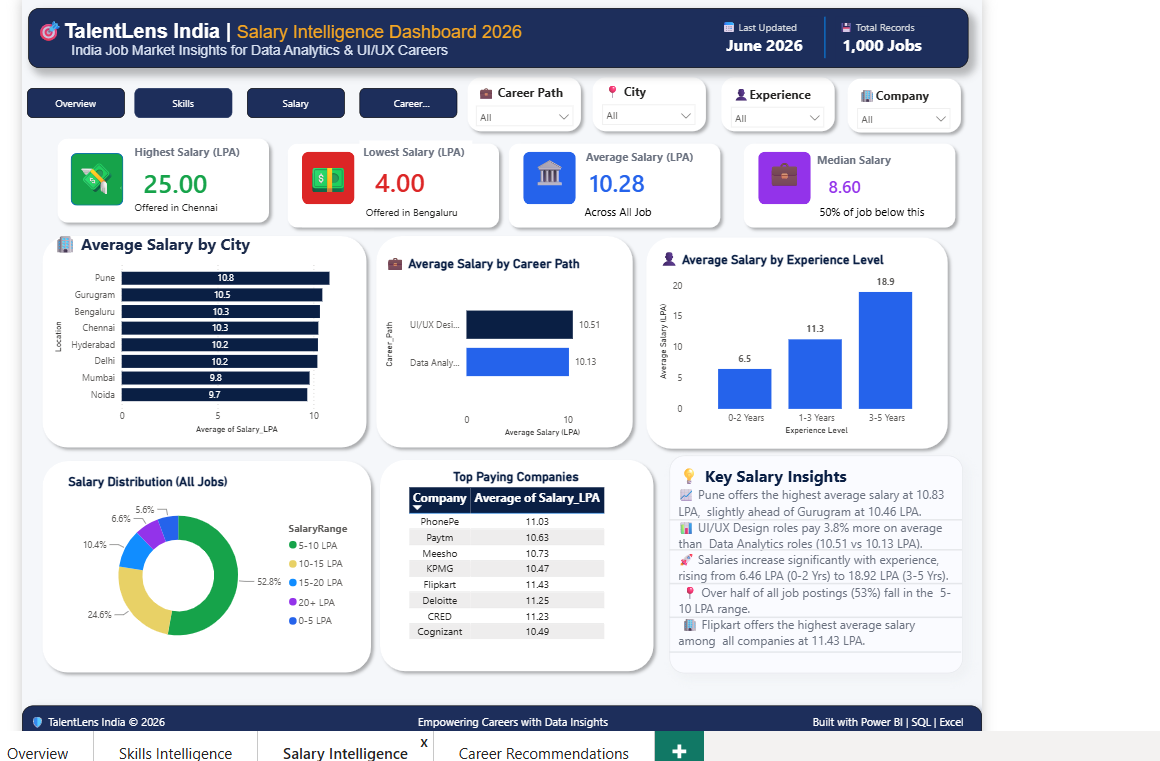

What the dashboard file says about the page in this screenshot:
{"tool":"powerbi","page":{"name":"Salary Intelligence ","canvas":[1280,1000],"ordinal":2},"visuals":[{"type":"textbox","box":[7.5,12.5,1253.8,80],"z":0,"group":"g7"},{"type":"actionButton","box":[7,120,130,40],"z":0},{"type":"shape","box":[38.6,178.6,300,130],"z":0,"group":"g11"},{"type":"shape","box":[952.5,185,300,130],"z":0,"group":"g12"},{"type":"shape","box":[640,185.6,300,130],"z":0,"group":"g13"},{"type":"shape","box":[345.7,185.7,300,130],"z":0,"group":"g14"},{"type":"shape","box":[17.5,608.8,456,300],"z":0,"group":"g10"},{"type":"actionButton","box":[150,120.6,130,40],"z":1000},{"type":"shape","box":[980.1,204.9,70,70],"z":1000,"group":"g12"},{"type":"shape","box":[667.6,205.5,70,70],"z":1000,"group":"g13"},{"type":"shape","box":[373.3,205.6,70,70],"z":1000,"group":"g14"},{"type":"shape","box":[65.4,207.3,70,70],"z":1000,"group":"g11"},{"type":"actionButton","box":[300,120.6,130,40],"z":2000},{"type":"group","id":"g1","title":"Group 2","box":[585,96,169,90],"z":3000},{"type":"cardVisual","fields":{"Data":["ToolPopularity.SalaryLowest"]},"box":[454.7,220.6,148.8,47.5],"z":3000,"group":"g14"},{"type":"shape","box":[1013.1,24.7,114.3,55.6],"z":4000,"group":"g7"},{"type":"group","id":"g2","title":"Group 3","box":[751.1,95.9,169.2,90],"z":4000},{"type":"textbox","box":[145.3,189.5,169,31],"z":4000,"group":"g11"},{"type":"textbox","box":[450.9,190.6,150,37.5],"z":4000,"group":"g14"},{"type":"textbox","box":[746.9,197.8,173.3,35.6],"z":4000,"group":"g13"},{"type":"textbox","box":[1054.6,199.2,130,30.9],"z":4000,"group":"g12"},{"type":"textbox","box":[928.2,24.7,132.8,57.8],"z":5000,"group":"g7"},{"type":"group","id":"g3","title":"Group 4","box":[924,96,169,90],"z":5000},{"type":"textbox","box":[1084.9,24.7,125.2,57.8],"z":6000,"group":"g7"},{"type":"group","id":"g4","title":"Group 6","box":[38.6,178.6,300,130],"z":6000},{"type":"group","id":"g5","title":"Group 6","box":[345.7,185.7,300,130],"z":7000},{"type":"group","id":"g6","title":"Group 6","box":[640,185.6,300,130],"z":8000},{"type":"textbox","box":[0,942.5,1280,47.5],"z":9000},{"type":"group","id":"g7","title":"Group 10","box":[7.5,12.5,1253.8,80],"z":10000},{"type":"shape","box":[17.7,308.3,450,300],"z":11000},{"type":"shape","box":[463.8,308.8,360,300],"z":12000},{"type":"shape","box":[585,96,169.2,90],"z":13000,"group":"g1"},{"type":"shape","box":[823.2,309.4,420,300],"z":13000},{"type":"slicer","title":"Career Path","fields":{"Values":["talentlens_1000.Career_Path"]},"box":[595.4,109.9,150,65.6],"z":14000,"group":"g1"},{"type":"group","id":"g8","title":"Group 6","box":[952.5,185,300,130],"z":14000},{"type":"shape","box":[751.1,95.9,169.2,90],"z":15000,"group":"g2"},{"type":"group","id":"g9","title":"Group 4","box":[1091.7,98.3,169.2,90],"z":15000},{"type":"slicer","title":"Career Path","fields":{"Values":["talentlens_1000.Location"]},"box":[763.4,107.8,144.4,65.6],"z":16000,"group":"g2"},{"type":"cardVisual","fields":{"Data":["talentlens_1000.SalaryMedian"]},"box":[1058.8,222.5,80,52.5],"z":16000},{"type":"shape","box":[924,96,169.2,90],"z":17000,"group":"g3"},{"type":"shape","box":[1091.7,98.3,169.2,90],"z":17000,"group":"g9"},{"type":"textbox","box":[863,610,391,290],"z":17000},{"type":"textbox","box":[144.7,266,149.5,30.4],"z":17001,"group":"g11"},{"type":"textbox","box":[744.4,270.5,174.4,33.3],"z":17001,"group":"g13"},{"type":"textbox","box":[1057.5,270.6,175.6,34.4],"z":17001,"group":"g12"},{"type":"slicer","title":"Career Path","fields":{"Values":["talentlens_1000.Experience"]},"box":[936.2,110.8,144.4,65.6],"z":18000,"group":"g3"},{"type":"slicer","title":"Career Path","fields":{"Values":["talentlens_1000.Company"]},"box":[1103.9,113.1,144.4,65.6],"z":18000,"group":"g9"},{"type":"shape","box":[467.5,606.2,382.5,300],"z":18000},{"type":"group","id":"g10","title":"Group 1","box":[17.5,608.8,456,300],"z":19000},{"type":"textbox","box":[1047.3,224.8,196.2,46.2],"z":19001,"group":"g8"},{"type":"textbox","box":[38,309,334,50],"z":20000},{"type":"cardVisual","fields":{"Data":["ToolPopularity.SalaryHighest"]},"box":[145.7,218.6,120,52.9],"z":21000},{"type":"group","id":"g11","title":"Group 7","box":[38.6,178.6,300,130],"z":21001,"group":"g4"},{"type":"group","id":"g12","title":"Group 7","box":[952.5,185,300,130],"z":21001,"group":"g8"},{"type":"group","id":"g13","title":"Group 7","box":[640,185.6,300,130],"z":21001,"group":"g6"},{"type":"group","id":"g14","title":"Group 7","box":[345.7,185.7,300,130],"z":21001,"group":"g5"},{"type":"textbox","box":[452.9,271.4,150,28.6],"z":22000},{"type":"cardVisual","fields":{"Data":["ToolPopularity.SalaryAverage"]},"box":[751.2,216.2,111.2,55],"z":23000},{"type":"clusteredBarChart","fields":{"Category":["talentlens_1000.Location"],"Y":["Avg(talentlens_1000.Salary_LPA)"]},"box":[37.5,343.8,413.8,242.5],"z":24000},{"type":"clusteredColumnChart","title":"👤 Average  Salary by Experience Level","fields":{"Category":["talentlens_1000.Experience"],"Y":["Avg(talentlens_1000.Salary_LPA)"]},"box":[844.3,334.3,388.6,252.9],"z":25000},{"type":"clusteredBarChart","title":"💼 Average Salary by Career Path","fields":{"Category":["talentlens_1000.Career_Path"],"Y":["Avg(talentlens_1000.Salary_LPA)"]},"box":[480,340,327.1,250],"z":26000},{"type":"donutChart","title":"Salary Distribution (All Jobs)","fields":{"Y":["CountNonNull(talentlens_1000.Job_ID)"],"Category":["talentlens_1000.SalaryRange"]},"box":[56.2,635,398.8,251.2],"z":27000},{"type":"tableEx","title":"Top Paying Companies","fields":{"Values":["talentlens_1000.Company","Avg(talentlens_1000.Salary_LPA)"]},"box":[510,628.8,297.5,260],"z":28000},{"type":"actionButton","box":[450,120.6,130,40],"z":29000},{"type":"shape","box":[863.8,858.8,388.8,27.5],"z":30000},{"type":"shape","box":[863.6,810.9,390,28.2],"z":31000},{"type":"shape","box":[863.6,767.3,390,28.2],"z":32000},{"type":"shape","box":[862.7,720.9,390,28.2],"z":33000},{"type":"shape","box":[863.6,686.4,390,18.2],"z":34000}]}

Visuals, with their boxes on the page's 1280x1000 design canvas (x1, y1, x2, y2). These are canvas units, not pixel positions in the 1160x761 screenshot, which may show the page scaled, cropped or inside an application window:
textbox: (x1=8, y1=12, x2=1261, y2=92)
actionButton: (x1=7, y1=120, x2=137, y2=160)
shape: (x1=39, y1=179, x2=339, y2=309)
shape: (x1=952, y1=185, x2=1252, y2=315)
shape: (x1=640, y1=186, x2=940, y2=316)
shape: (x1=346, y1=186, x2=646, y2=316)
shape: (x1=18, y1=609, x2=474, y2=909)
actionButton: (x1=150, y1=121, x2=280, y2=161)
shape: (x1=980, y1=205, x2=1050, y2=275)
shape: (x1=668, y1=206, x2=738, y2=276)
shape: (x1=373, y1=206, x2=443, y2=276)
shape: (x1=65, y1=207, x2=135, y2=277)
actionButton: (x1=300, y1=121, x2=430, y2=161)
"Group 2" group: (x1=585, y1=96, x2=754, y2=186)
cardVisual - ToolPopularity.SalaryLowest: (x1=455, y1=221, x2=604, y2=268)
shape: (x1=1013, y1=25, x2=1127, y2=80)
"Group 3" group: (x1=751, y1=96, x2=920, y2=186)
textbox: (x1=145, y1=190, x2=314, y2=220)
textbox: (x1=451, y1=191, x2=601, y2=228)
textbox: (x1=747, y1=198, x2=920, y2=233)
textbox: (x1=1055, y1=199, x2=1185, y2=230)
textbox: (x1=928, y1=25, x2=1061, y2=82)
"Group 4" group: (x1=924, y1=96, x2=1093, y2=186)
textbox: (x1=1085, y1=25, x2=1210, y2=82)
"Group 6" group: (x1=39, y1=179, x2=339, y2=309)
"Group 6" group: (x1=346, y1=186, x2=646, y2=316)
"Group 6" group: (x1=640, y1=186, x2=940, y2=316)
textbox: (x1=0, y1=942, x2=1280, y2=990)
"Group 10" group: (x1=8, y1=12, x2=1261, y2=92)
shape: (x1=18, y1=308, x2=468, y2=608)
shape: (x1=464, y1=309, x2=824, y2=609)
shape: (x1=585, y1=96, x2=754, y2=186)
shape: (x1=823, y1=309, x2=1243, y2=609)
"Career Path" slicer: (x1=595, y1=110, x2=745, y2=176)
"Group 6" group: (x1=952, y1=185, x2=1252, y2=315)
shape: (x1=751, y1=96, x2=920, y2=186)
"Group 4" group: (x1=1092, y1=98, x2=1261, y2=188)
"Career Path" slicer: (x1=763, y1=108, x2=908, y2=173)
cardVisual - talentlens_1000.SalaryMedian: (x1=1059, y1=222, x2=1139, y2=275)
shape: (x1=924, y1=96, x2=1093, y2=186)
shape: (x1=1092, y1=98, x2=1261, y2=188)
textbox: (x1=863, y1=610, x2=1254, y2=900)
textbox: (x1=145, y1=266, x2=294, y2=296)
textbox: (x1=744, y1=270, x2=919, y2=304)
textbox: (x1=1058, y1=271, x2=1233, y2=305)
"Career Path" slicer: (x1=936, y1=111, x2=1081, y2=176)
"Career Path" slicer: (x1=1104, y1=113, x2=1248, y2=179)
shape: (x1=468, y1=606, x2=850, y2=906)
"Group 1" group: (x1=18, y1=609, x2=474, y2=909)
textbox: (x1=1047, y1=225, x2=1244, y2=271)
textbox: (x1=38, y1=309, x2=372, y2=359)
cardVisual - ToolPopularity.SalaryHighest: (x1=146, y1=219, x2=266, y2=272)
"Group 7" group: (x1=39, y1=179, x2=339, y2=309)
"Group 7" group: (x1=952, y1=185, x2=1252, y2=315)
"Group 7" group: (x1=640, y1=186, x2=940, y2=316)
"Group 7" group: (x1=346, y1=186, x2=646, y2=316)
textbox: (x1=453, y1=271, x2=603, y2=300)
cardVisual - ToolPopularity.SalaryAverage: (x1=751, y1=216, x2=862, y2=271)
clusteredBarChart - talentlens_1000.Location x Avg(talentlens_1000.Salary_LPA): (x1=38, y1=344, x2=451, y2=586)
"👤 Average  Salary by Experience Level" clusteredColumnChart: (x1=844, y1=334, x2=1233, y2=587)
"💼 Average Salary by Career Path" clusteredBarChart: (x1=480, y1=340, x2=807, y2=590)
"Salary Distribution (All Jobs)" donutChart: (x1=56, y1=635, x2=455, y2=886)
"Top Paying Companies" tableEx: (x1=510, y1=629, x2=808, y2=889)
actionButton: (x1=450, y1=121, x2=580, y2=161)
shape: (x1=864, y1=859, x2=1253, y2=886)
shape: (x1=864, y1=811, x2=1254, y2=839)
shape: (x1=864, y1=767, x2=1254, y2=796)
shape: (x1=863, y1=721, x2=1253, y2=749)
shape: (x1=864, y1=686, x2=1254, y2=705)
